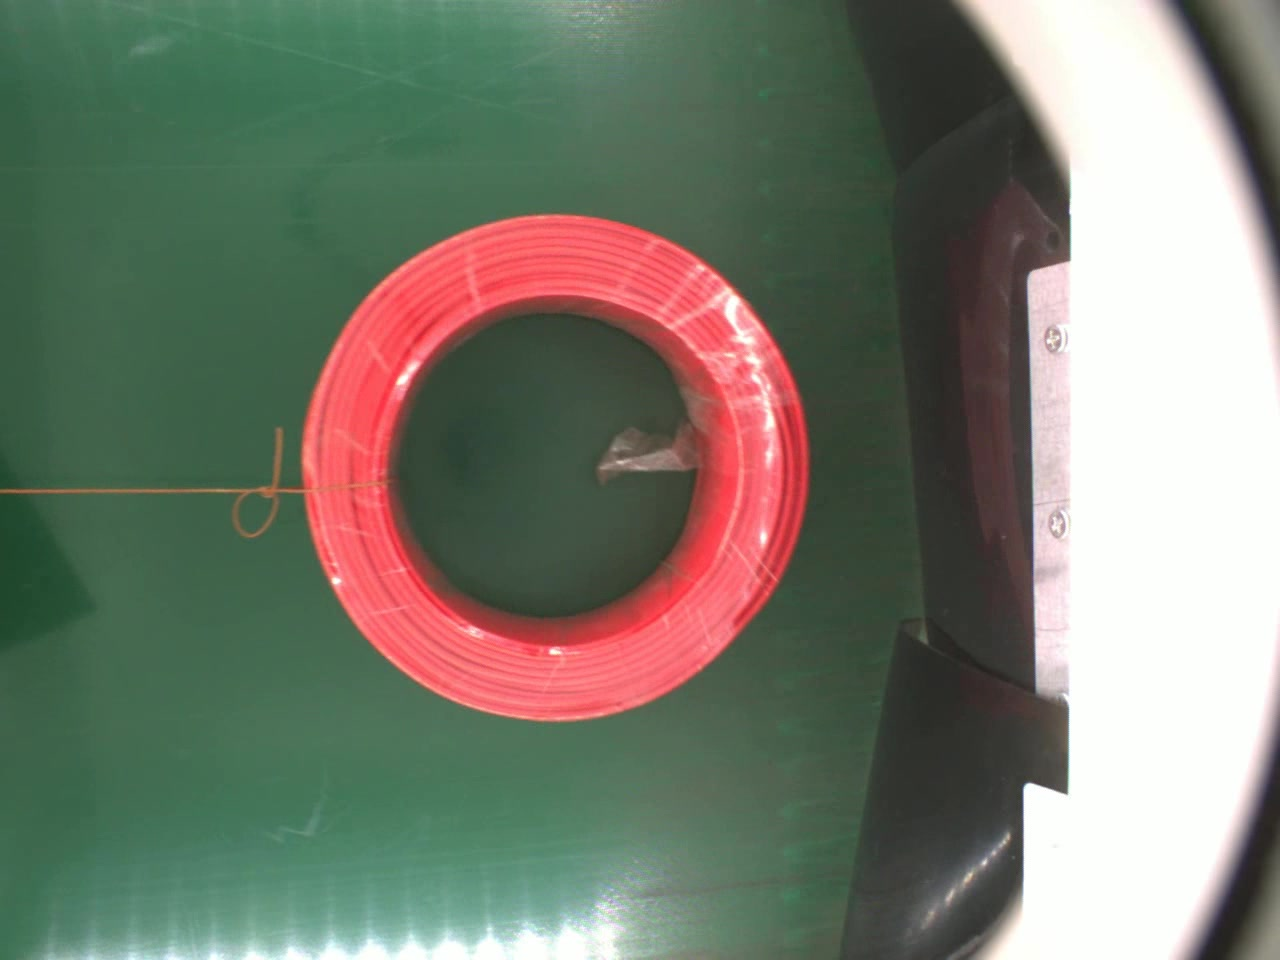red: (307, 211, 806, 726)
